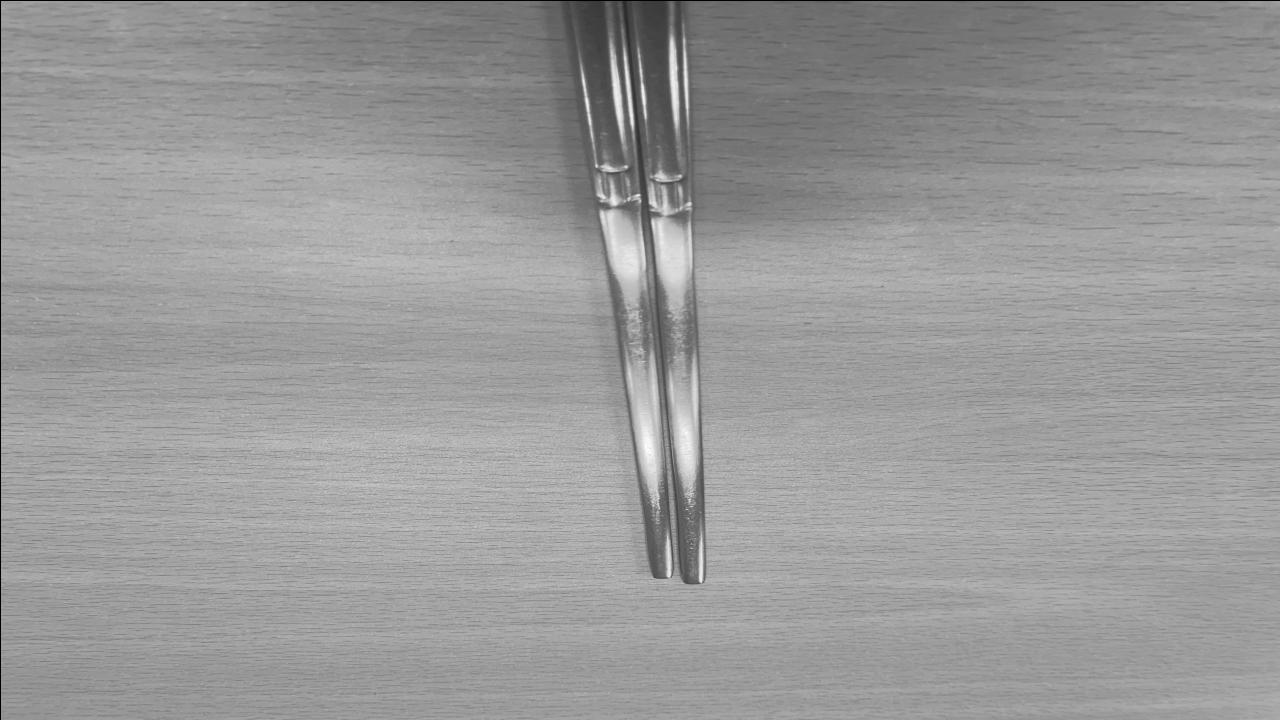chopstick: (560, 0, 702, 580)
